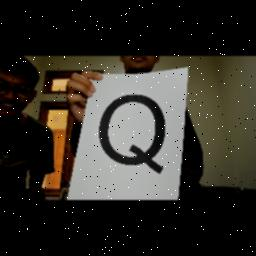q: (92, 88, 176, 180)
